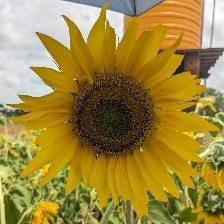sunflower: (7, 1, 224, 219)
